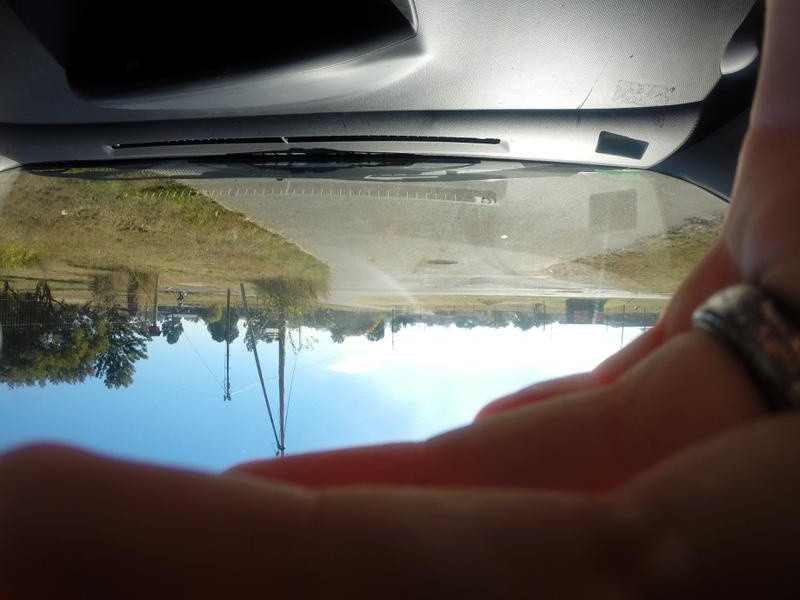pothole: (427, 251, 467, 270)
